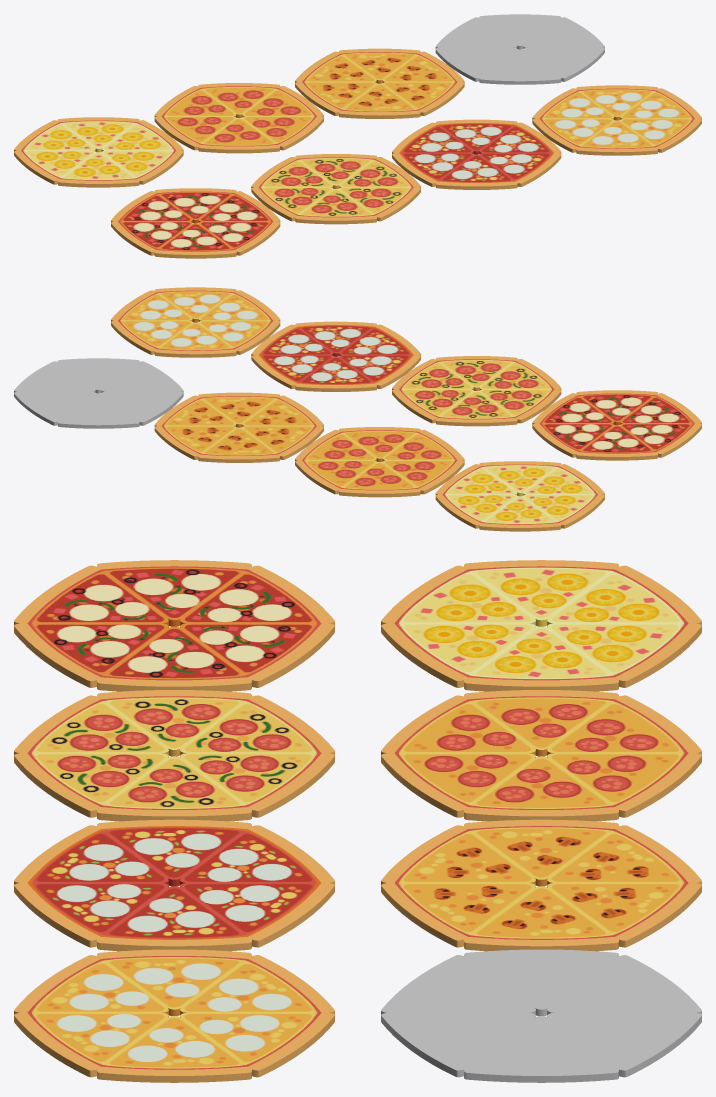
File: pizzaSet.fbx
3 views of the same model, one above another, from view 1: azimuth 30°, elevation 25°; view 2: azimuth 150°, elevation 25°; view 3: azimuth 270°, elevation 25° (orthographic). The views are drawn at different scales.
Visible parts, largest first — view 1: Four_Cheese_Pizza.001, Four_Cheese_Pizza.005, Four_Cheese_Pizza.004, Four_Cheese_Pizza.008, Four_Cheese_Pizza.002, Four_Cheese_Pizza.006, Four_Cheese_Pizza.003, Four_Cheese_Pizza.007; view 2: Four_Cheese_Pizza.004, Four_Cheese_Pizza.008, Four_Cheese_Pizza.001, Four_Cheese_Pizza.005, Four_Cheese_Pizza.003, Four_Cheese_Pizza.007, Four_Cheese_Pizza.002, Four_Cheese_Pizza.006; view 3: Four_Cheese_Pizza.001, Four_Cheese_Pizza.008, Four_Cheese_Pizza.002, Four_Cheese_Pizza.004, Four_Cheese_Pizza.005, Four_Cheese_Pizza.007, Four_Cheese_Pizza.003, Four_Cheese_Pizza.006.
Boxes of the visible parts, x1,y1,x2,y2 form: Four_Cheese_Pizza.001: [532, 85, 701, 155]; Four_Cheese_Pizza.005: [14, 117, 183, 187]; Four_Cheese_Pizza.004: [111, 188, 280, 258]; Four_Cheese_Pizza.008: [435, 14, 604, 84]; Four_Cheese_Pizza.002: [392, 119, 561, 189]; Four_Cheese_Pizza.006: [154, 83, 323, 153]; Four_Cheese_Pizza.003: [251, 154, 420, 224]; Four_Cheese_Pizza.007: [295, 48, 464, 118]; Four_Cheese_Pizza.004: [532, 390, 701, 460]; Four_Cheese_Pizza.008: [14, 358, 183, 428]; Four_Cheese_Pizza.001: [111, 287, 280, 357]; Four_Cheese_Pizza.005: [435, 461, 604, 531]; Four_Cheese_Pizza.003: [392, 356, 561, 426]; Four_Cheese_Pizza.007: [154, 392, 323, 462]; Four_Cheese_Pizza.002: [251, 321, 420, 391]; Four_Cheese_Pizza.006: [295, 427, 464, 497]; Four_Cheese_Pizza.001: [14, 949, 334, 1082]; Four_Cheese_Pizza.008: [381, 949, 701, 1082]; Four_Cheese_Pizza.002: [14, 819, 334, 951]; Four_Cheese_Pizza.004: [14, 560, 334, 691]; Four_Cheese_Pizza.005: [381, 560, 701, 691]; Four_Cheese_Pizza.007: [381, 819, 701, 951]; Four_Cheese_Pizza.003: [14, 690, 334, 821]; Four_Cheese_Pizza.006: [381, 690, 701, 821].
Bounding box in the file's own units: 489 × 3 × 276.
